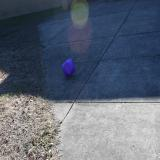cube: (62, 58, 76, 78)
